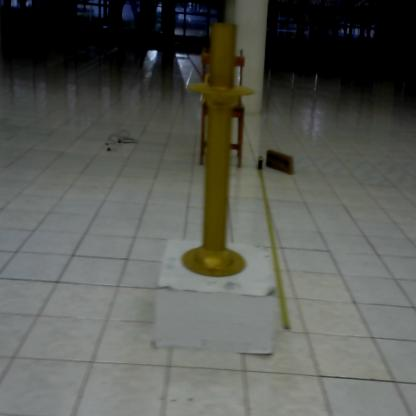pole: (178, 18, 258, 285)
